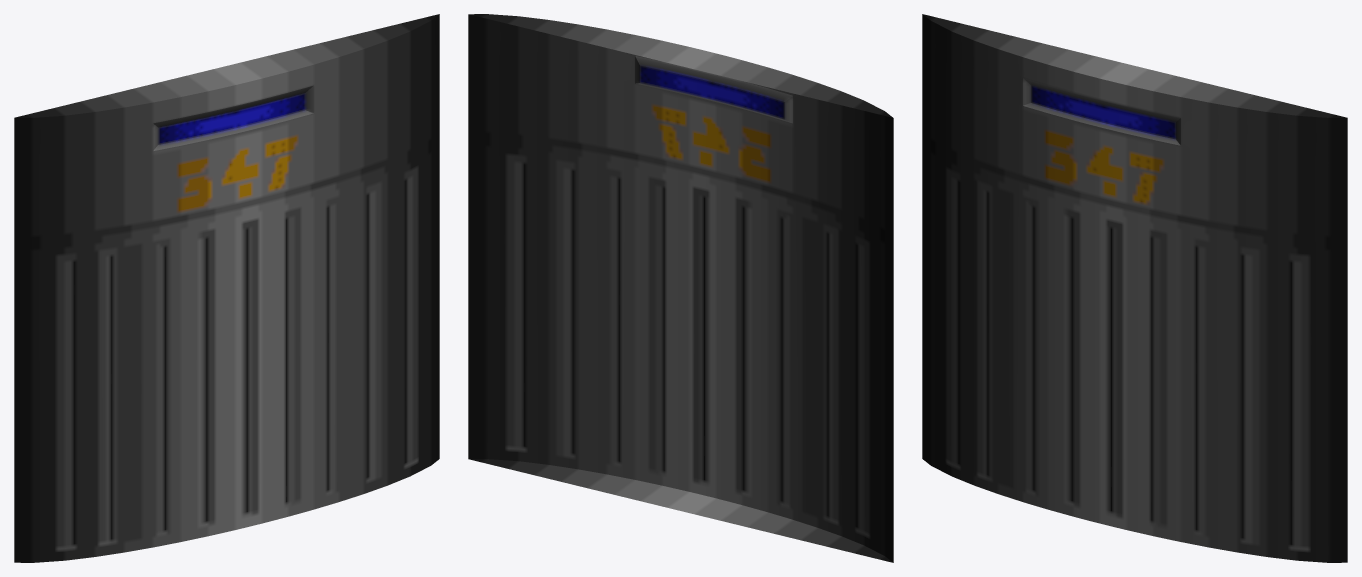
Rendered from reac2_9.fbx.
The picture shows the model from 3 angles, left to right: view 1: azimuth 30°, elevation 25°; view 2: azimuth 150°, elevation 25°; view 3: azimuth 330°, elevation 25°; orthographic projection.
Visible parts, largest first — view 1: reac2_9; view 2: reac2_9; view 3: reac2_9.
Part boxes in pixels (x1,y1,x2,y2): reac2_9: [14, 14, 439, 562]; reac2_9: [468, 14, 893, 562]; reac2_9: [922, 14, 1347, 562].
Size of the model in its own units: 256 by 256 by 22.83.
